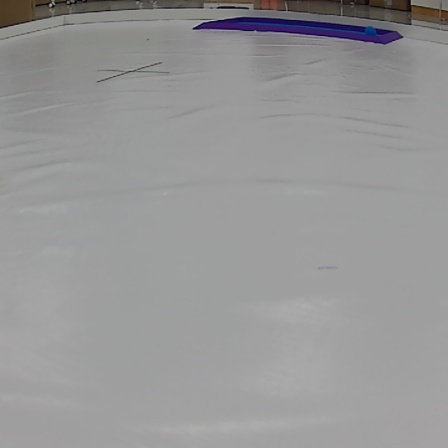blue: (364, 25, 378, 37)
blue_aim: (189, 18, 400, 44)
